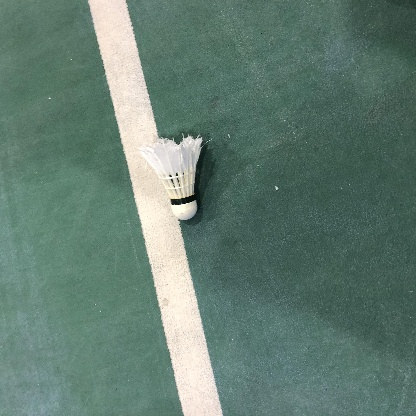ball_single: (139, 136, 202, 220)
